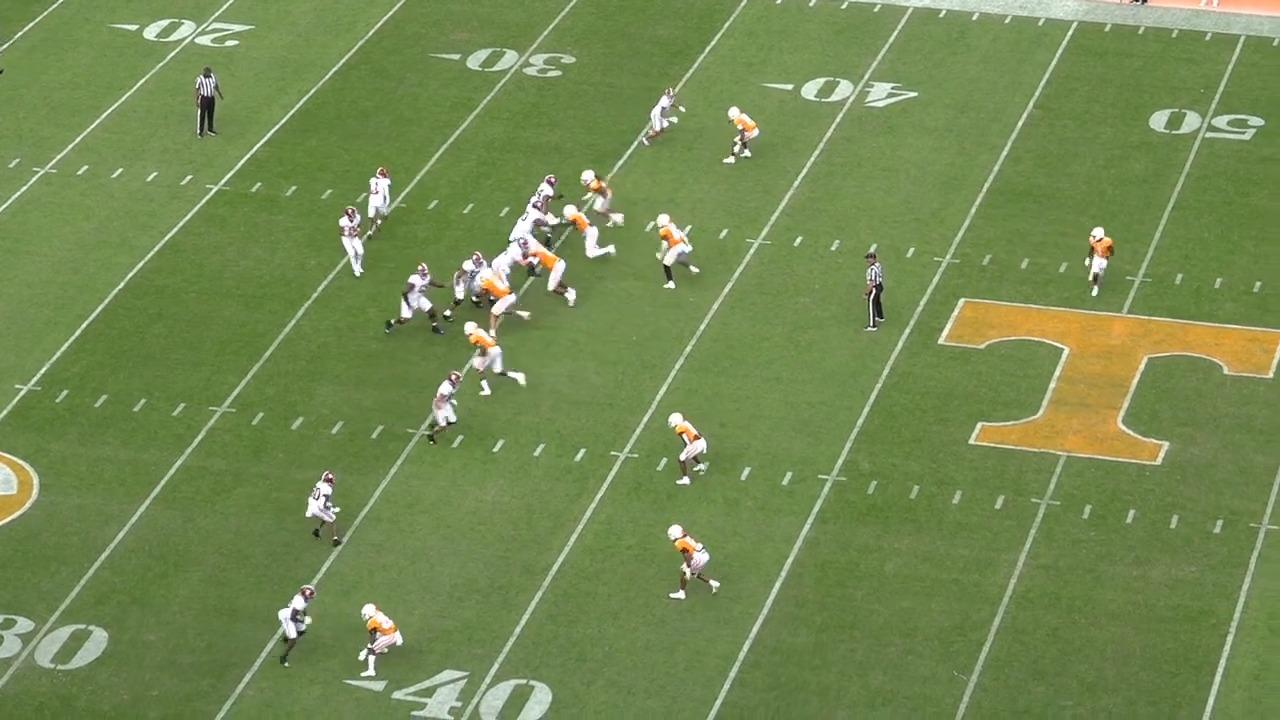player: (463, 322, 532, 403), (662, 524, 720, 608), (383, 261, 444, 339), (477, 264, 535, 340), (275, 580, 321, 675), (653, 213, 703, 295), (357, 595, 406, 678), (531, 239, 585, 309), (559, 200, 619, 261), (298, 468, 340, 550), (667, 408, 710, 488), (426, 367, 466, 447), (636, 81, 683, 147), (444, 251, 488, 321), (578, 168, 626, 231), (725, 105, 765, 172), (1081, 226, 1115, 304), (338, 206, 372, 284), (509, 197, 556, 247), (363, 164, 394, 239), (523, 175, 564, 224), (494, 239, 536, 282)
ref: (863, 249, 891, 339), (190, 66, 221, 143)
